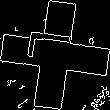L_E: (28, 36, 82, 74)
